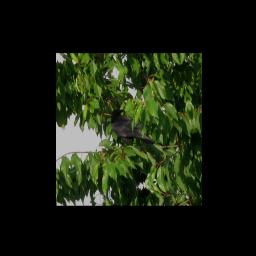Crow: (108, 99, 156, 156)
